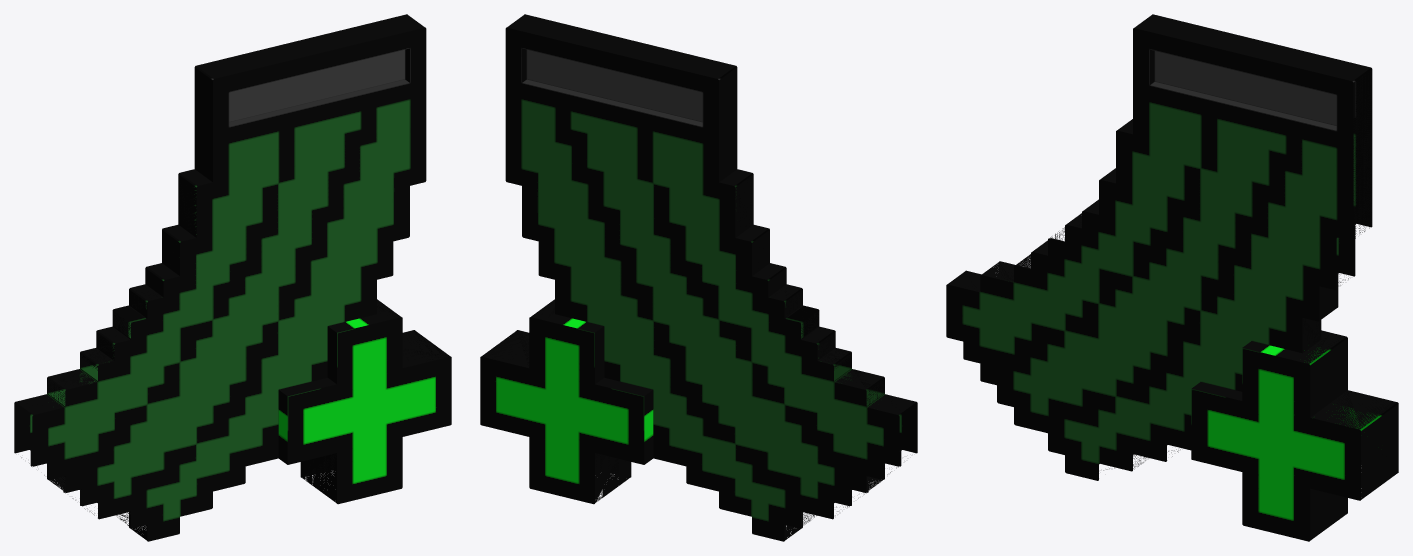
The model's file is Bandolier.fbx.
3 renders of one model, left to right at view 1: azimuth 30°, elevation 25°; view 2: azimuth 150°, elevation 25°; view 3: azimuth 330°, elevation 25°, orthographic. The views are drawn at different scales.
Visible parts, largest first — view 1: bandolier; view 2: bandolier; view 3: bandolier.
Part boxes in pixels (x1=…): bandolier: x1=14, y1=14, x2=451, y2=541; bandolier: x1=480, y1=14, x2=917, y2=541; bandolier: x1=946, y1=14, x2=1398, y2=541.
Bounding box in the file's own units: 1.3 × 1.35 × 0.2.
